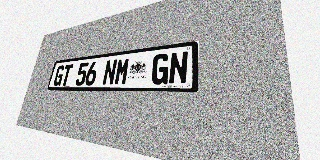5: (75, 62, 89, 86)
6: (84, 61, 99, 85)
G: (150, 53, 170, 85), (53, 65, 65, 86)
M: (114, 57, 131, 85)
N: (168, 51, 189, 84), (102, 59, 118, 85)
T: (60, 64, 73, 86)
